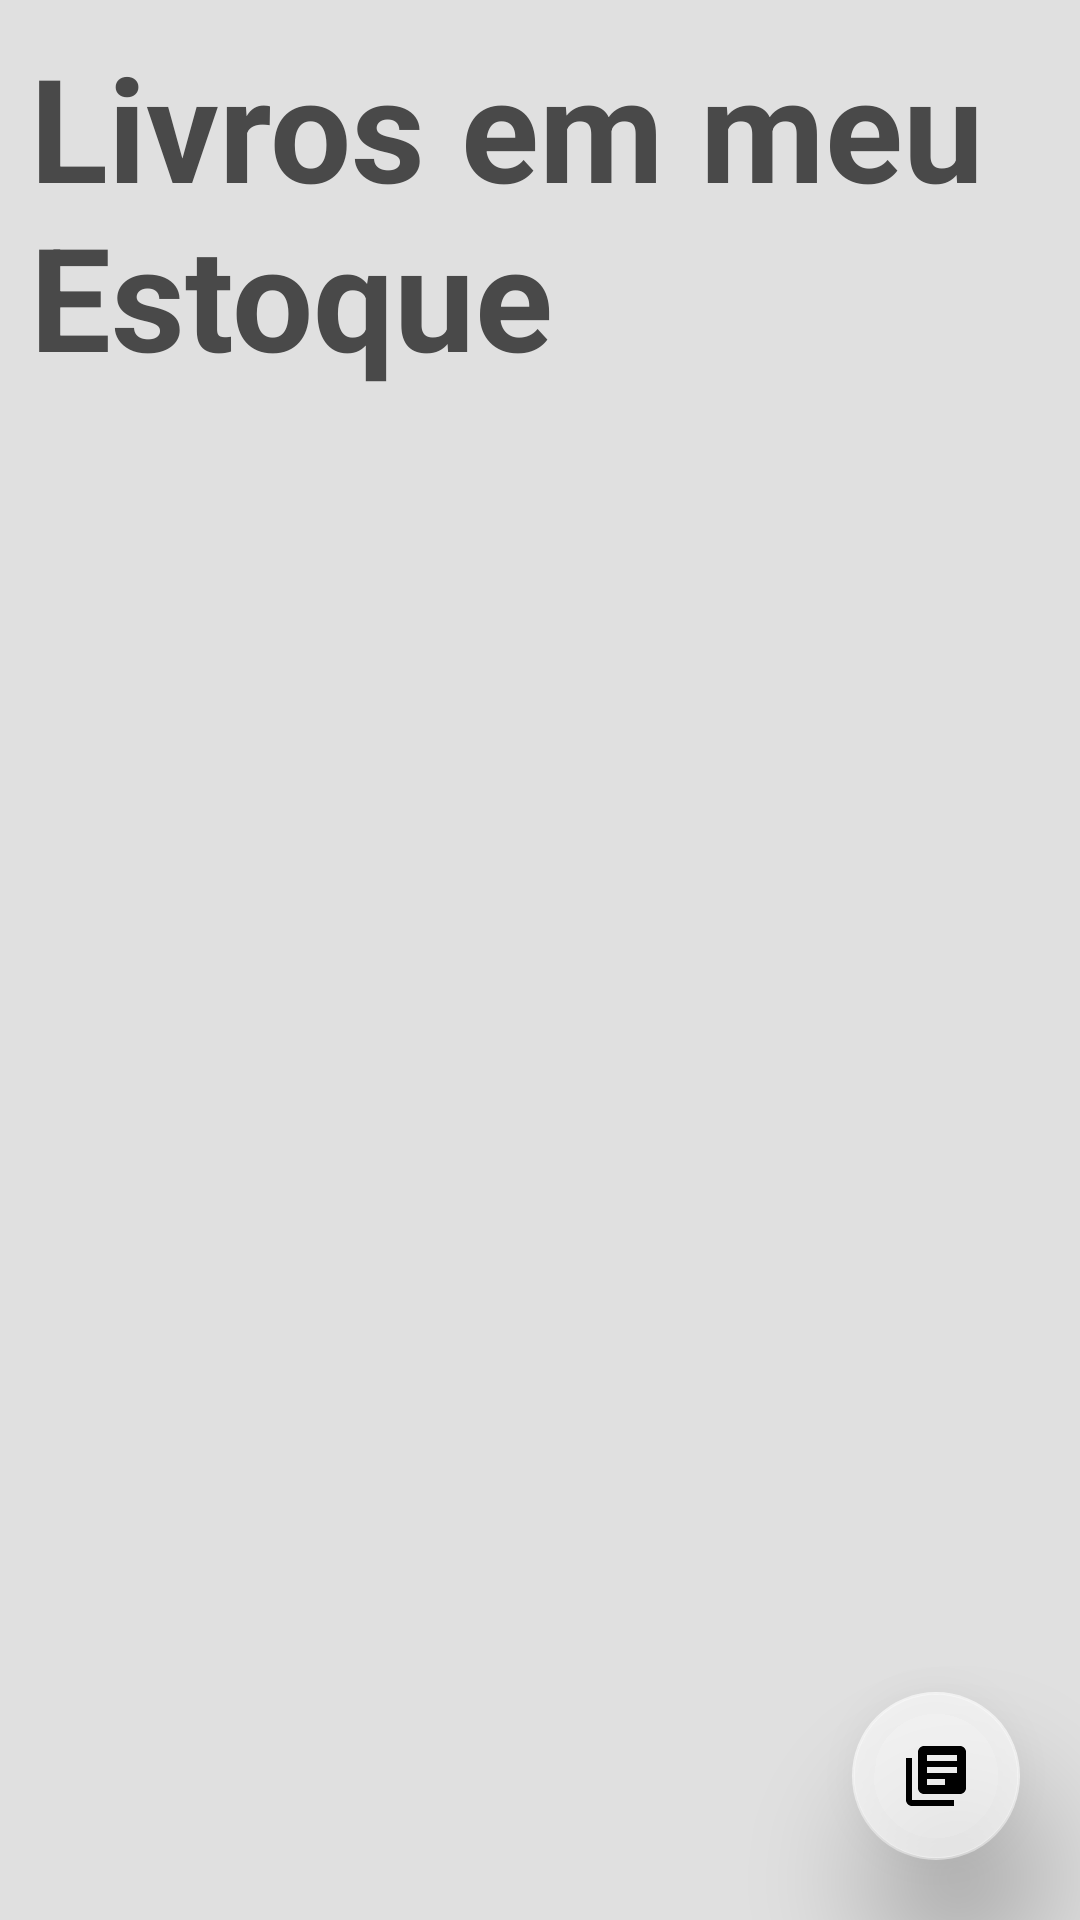

Icons on this 1080 x 1920 Android screen, each with the point to tap as point (x, y):
cadastrar livro: point (936, 1776)
